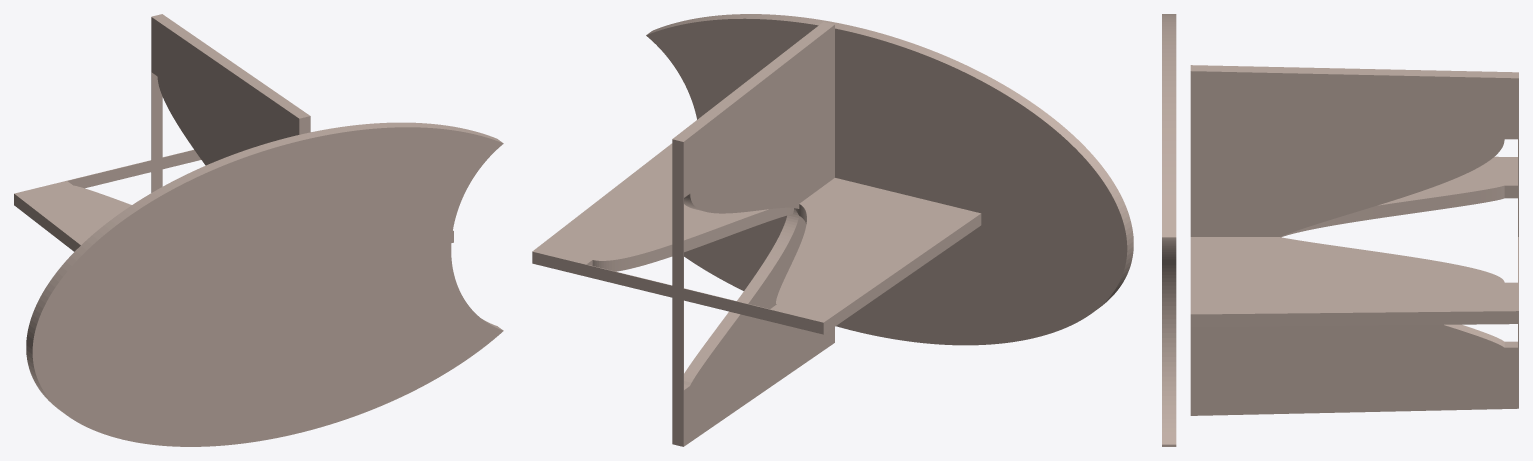
File: NODO_MESA_RATONA_ORGANICA_PARAISO_V1.glb
The picture shows the model from 3 angles, left to right: view 1: azimuth 30°, elevation 25°; view 2: azimuth 150°, elevation 25°; view 3: azimuth 270°, elevation 25°; orthographic projection. The views are drawn at different scales.
Visible parts, largest first — view 1: TAPA, PATA_B, PATA_A; view 2: TAPA, PATA_B, PATA_A; view 3: PATA_B, PATA_A, TAPA.
Part boxes in pixels (bbox=[...]): TAPA: bbox=[26, 122, 503, 446]; PATA_B: bbox=[151, 14, 310, 192]; PATA_A: bbox=[14, 149, 453, 251]; TAPA: bbox=[646, 14, 1133, 345]; PATA_B: bbox=[672, 22, 834, 446]; PATA_A: bbox=[532, 143, 981, 334]; PATA_B: bbox=[1190, 65, 1518, 415]; PATA_A: bbox=[1190, 156, 1518, 327]; TAPA: bbox=[1162, 14, 1176, 446].
Size of the model in its own units: 0.7599 by 0.48 by 0.45.
